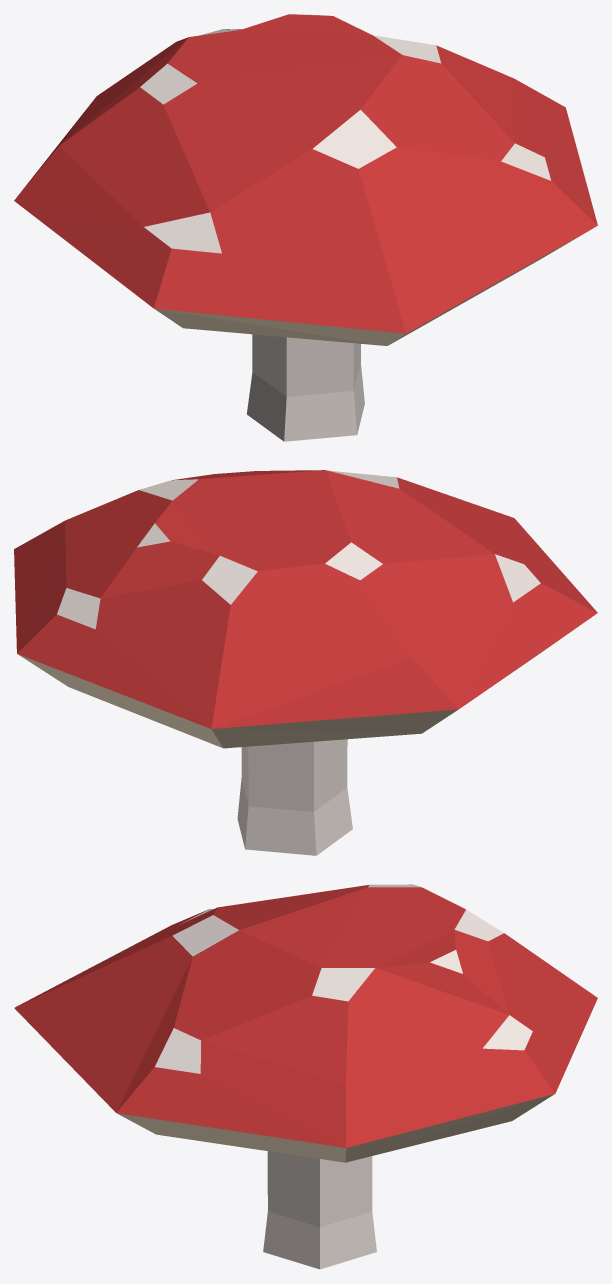
The model's file is SM_Mushroom_Red_02.fbx.
3 renders of one model, top to bottom at view 1: azimuth 30°, elevation 25°; view 2: azimuth 150°, elevation 25°; view 3: azimuth 270°, elevation 25°, orthographic. The views are drawn at different scales.
Visible parts, largest first — view 1: SM_Mushroom_Red_02; view 2: SM_Mushroom_Red_02; view 3: SM_Mushroom_Red_02.
Boxes of the visible parts, <box> form: SM_Mushroom_Red_02: <box>14,14,597,441</box>; SM_Mushroom_Red_02: <box>14,470,597,855</box>; SM_Mushroom_Red_02: <box>14,884,597,1269</box>.
Size of the model in its own units: 37.15 by 23.82 by 39.49.
